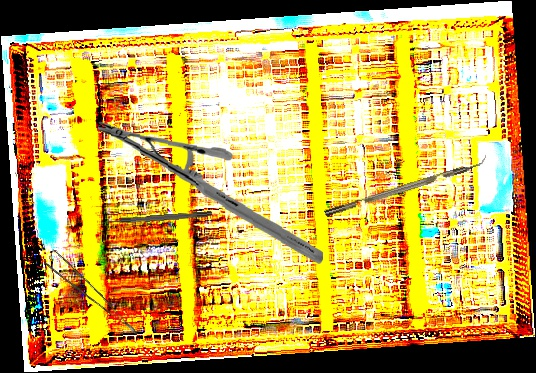Chopper: (321, 152, 490, 217)
Hook Surgical: (101, 211, 213, 225)
Needle Holder: (93, 119, 328, 264)
Tissue Forceps: (42, 244, 138, 349)
